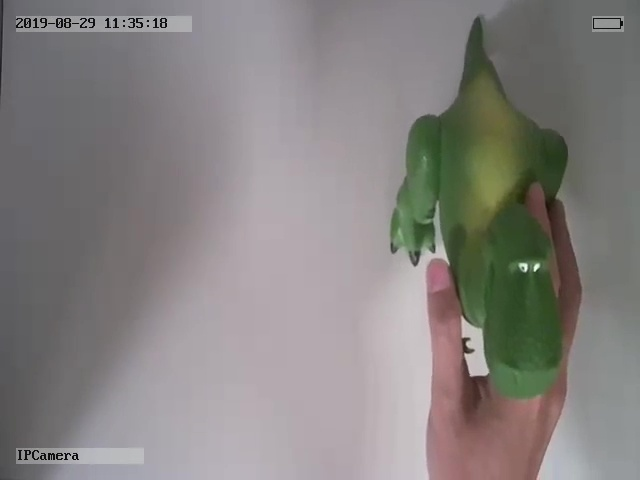rex: (384, 15, 569, 401)
